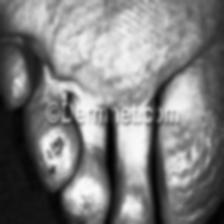Unclassified: (66, 185, 99, 224), (45, 134, 67, 172)
